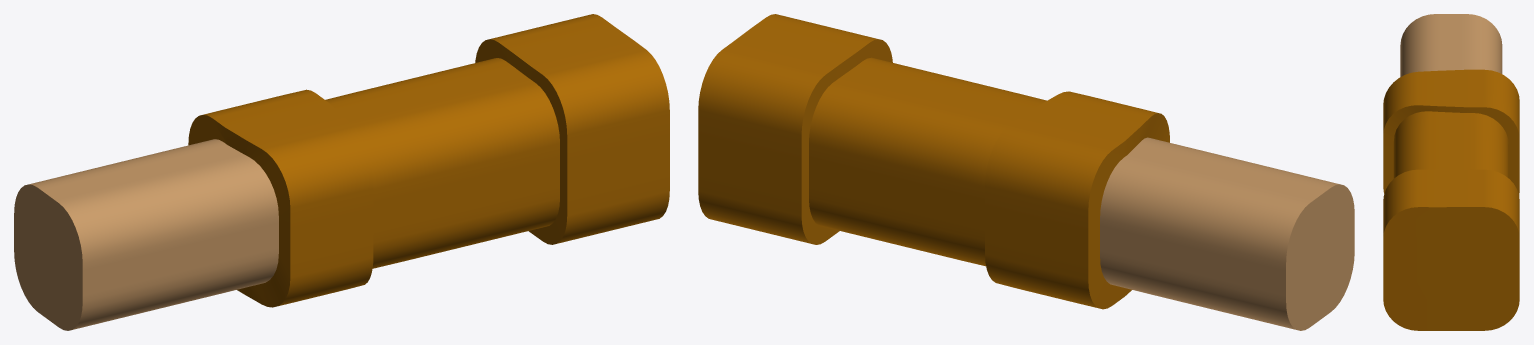
Rendered from userrightarm.fbx.
The picture shows the model from 3 angles, left to right: view 1: azimuth 30°, elevation 25°; view 2: azimuth 150°, elevation 25°; view 3: azimuth 270°, elevation 25°; orthographic projection. The views are drawn at different scales.
Parts seen in each view (by area): view 1: armright_low; view 2: armright_low; view 3: armright_low.
Boxes of the visible parts, x1,y1,x2,y2 form: armright_low: [14, 14, 669, 330]; armright_low: [698, 14, 1354, 330]; armright_low: [1383, 14, 1519, 330].
Size of the model in its own units: 7.25 by 2 by 2.
